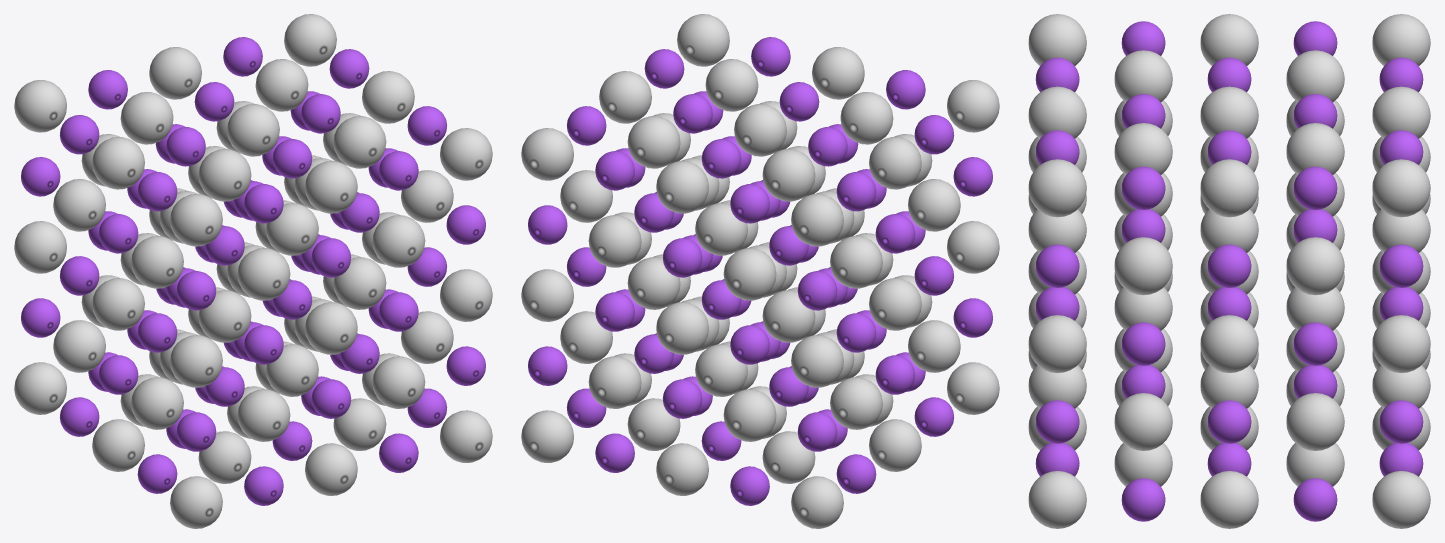
The model's file is sodium_bromide.glb.
3 views of the same model, side by side, from view 1: azimuth 30°, elevation 25°; view 2: azimuth 150°, elevation 25°; view 3: azimuth 270°, elevation 25° (orthographic). The views are drawn at different scales.
Visible parts, largest first — view 1: Na_099, Na_035, Na_095, Na_097, Na_049, Na_005, Na_009, Na_047, Na_075, Na_121, Na_003, Na_011 (+65 smaller); view 2: Na_097, Na_031, Na_091, Na_099, Na_047, Na_001, Na_007, Na_049, Na_071, Na_125, Na_003, Na_011 (+65 smaller); view 3: Na_117, Na_119, Na_123, Na_111, Na_115, Na_121, Na_125, Na_107, Na_109, Na_113, Na_101, Na_103 (+75 smaller).
Part boxes in pixels (<box>): Na_099: <box>333,116,386,168</box>; Na_035: <box>237,389,290,441</box>; Na_095: <box>372,215,425,267</box>; Na_097: <box>255,59,308,111</box>; Na_049: <box>198,149,251,201</box>; Na_005: <box>170,476,222,528</box>; Na_009: <box>131,377,183,429</box>; Na_047: <box>120,92,173,144</box>; Na_075: <box>305,161,357,213</box>; Na_121: <box>284,14,336,66</box>; Na_003: <box>92,419,144,471</box>; Na_011: <box>14,221,66,273</box>; Na_097: <box>627,116,680,168</box>; Na_031: <box>723,389,776,441</box>; Na_091: <box>588,215,641,267</box>; Na_099: <box>705,59,758,111</box>; Na_047: <box>762,149,815,201</box>; Na_001: <box>791,476,843,528</box>; Na_007: <box>830,377,882,429</box>; Na_049: <box>840,92,893,144</box>; Na_071: <box>656,161,708,213</box>; Na_125: <box>677,14,729,66</box>; Na_003: <box>869,419,921,471</box>; Na_011: <box>791,335,843,387</box>; Na_117: <box>1286,237,1344,295</box>; Na_119: <box>1114,237,1172,295</box>; Na_123: <box>1200,159,1258,217</box>; Na_111: <box>1372,315,1430,373</box>; Na_115: <box>1028,315,1086,373</box>; Na_121: <box>1372,159,1430,217</box>; Na_125: <box>1028,159,1086,217</box>; Na_107: <box>1286,393,1344,450</box>; Na_109: <box>1114,393,1172,450</box>; Na_113: <box>1200,315,1258,372</box>; Na_101: <box>1372,471,1430,528</box>; Na_103: <box>1200,471,1258,528</box>.
Bounding box in the file's own units: 1.1 × 1.1 × 1.1.
